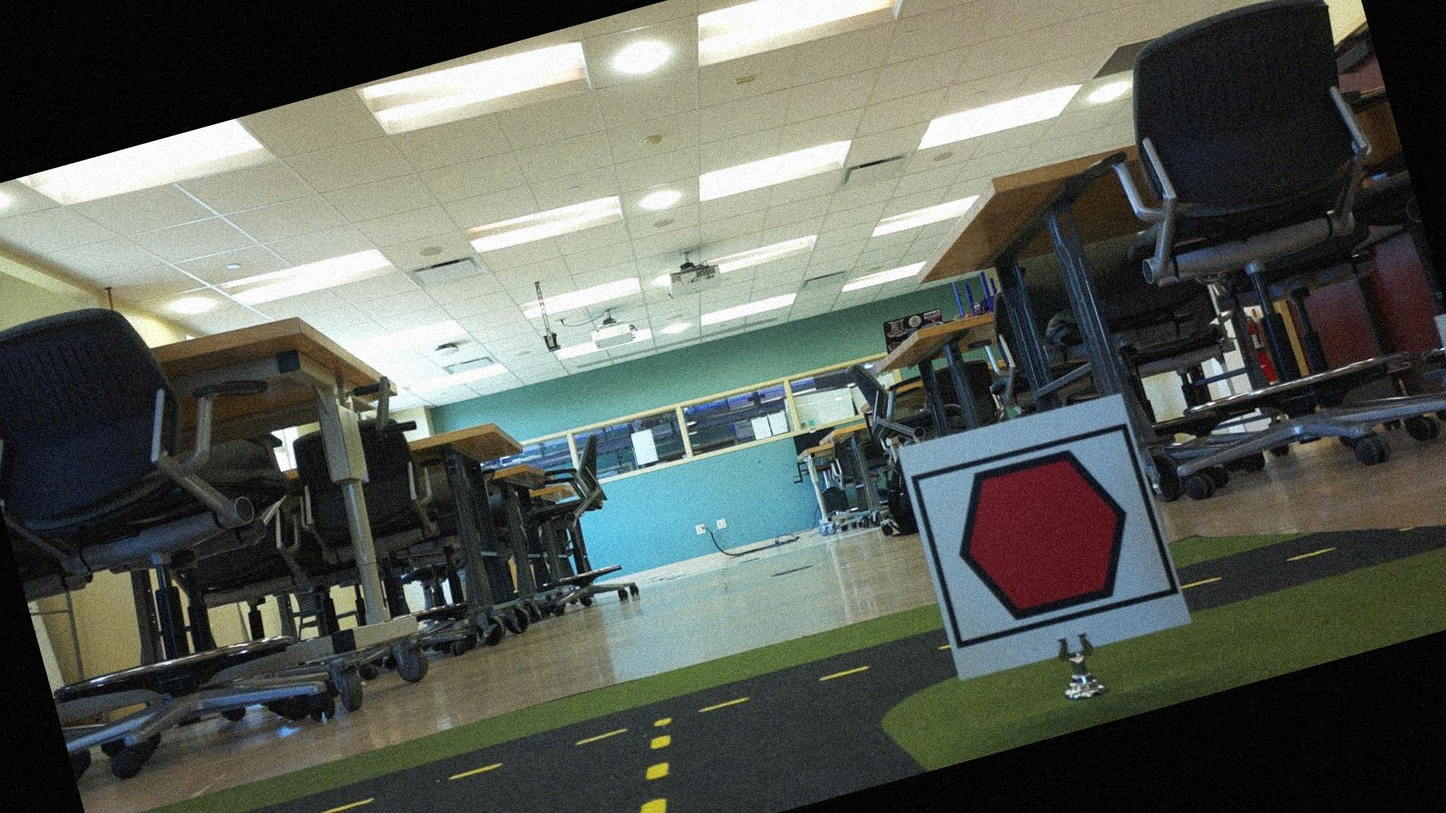stop: (924, 427, 1161, 643)
yellowline: (615, 713, 694, 812)
